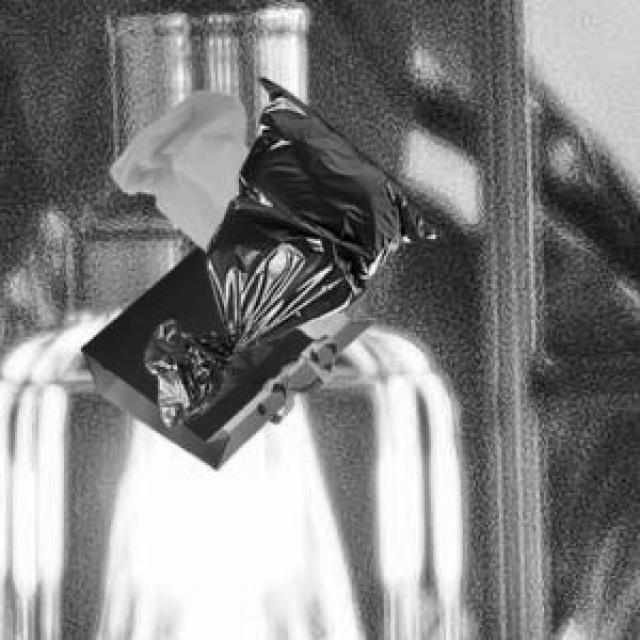miscellaneous trash: (141, 73, 442, 422)
paper: (77, 241, 371, 465)
